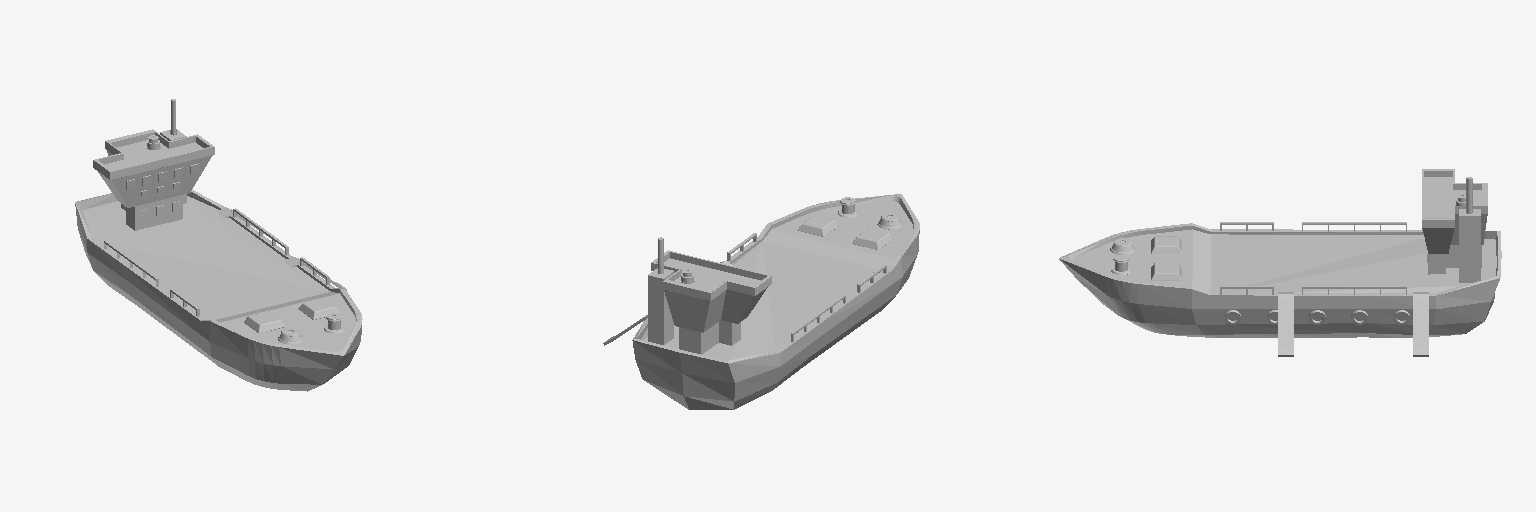
The model's file is Ferry (1).obj.
3 renders of one model, left to right at view 1: azimuth 30°, elevation 25°; view 2: azimuth 150°, elevation 25°; view 3: azimuth 270°, elevation 25°, orthographic.
Visible parts, largest first — view 1: Sphere.005; view 2: Sphere.005; view 3: Sphere.005.
Part boxes in pixels (left/top/right/bottom): Sphere.005: left=75, top=99, right=362, bottom=391; Sphere.005: left=603, top=194, right=919, bottom=409; Sphere.005: left=1059, top=169, right=1501, bottom=356.
Size of the model in its own units: 3.45 by 3.05 by 7.31.